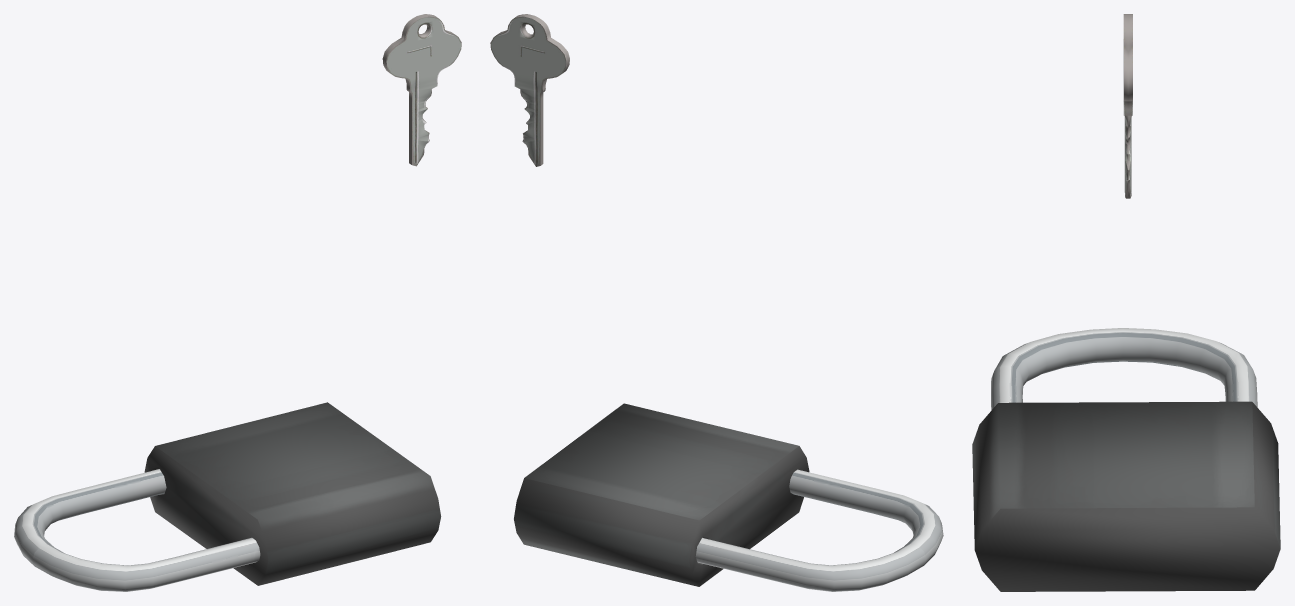
3 renders of one model, left to right at view 1: azimuth 30°, elevation 25°; view 2: azimuth 150°, elevation 25°; view 3: azimuth 270°, elevation 25°, orthographic. The views are drawn at different scales.
Visible parts, largest first — view 1: Bone01, Object001; view 2: Bone01, Object001; view 3: Bone01, Object001.
Part boxes in pixels (bbox=[...]): Bone01: bbox=[14, 402, 441, 591]; Object001: bbox=[382, 14, 461, 166]; Bone01: bbox=[514, 403, 943, 591]; Object001: bbox=[490, 14, 569, 166]; Bone01: bbox=[972, 328, 1280, 591]; Object001: bbox=[1123, 14, 1132, 198].
Size of the model in its own units: 10.36 by 11.03 by 5.13.
